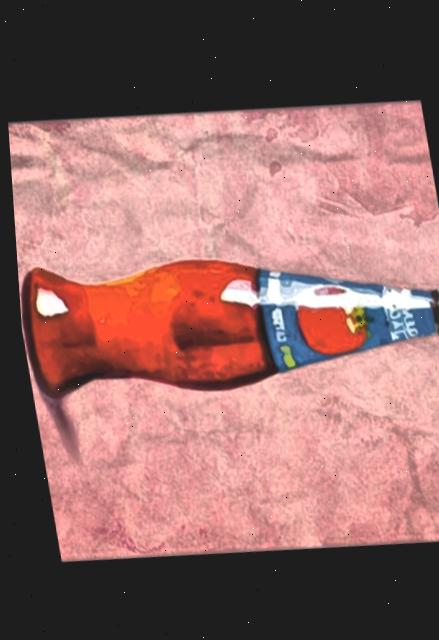La Botella: (4, 78, 439, 576)
